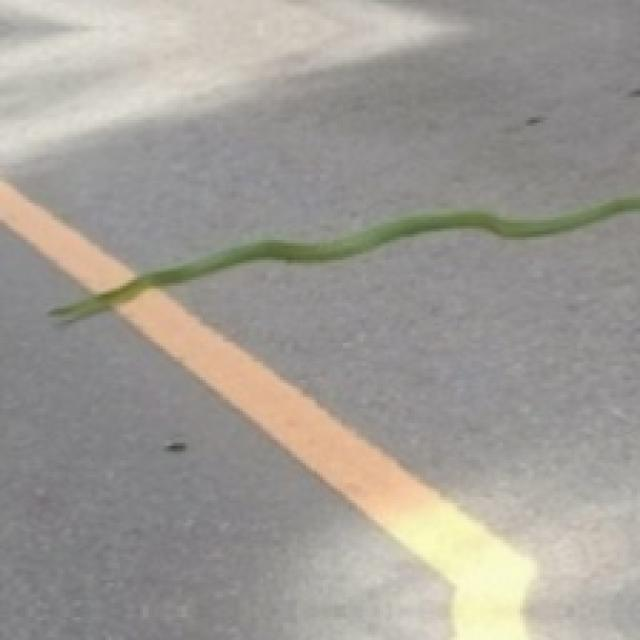red-tailed green ratsnake: (51, 194, 637, 317)
